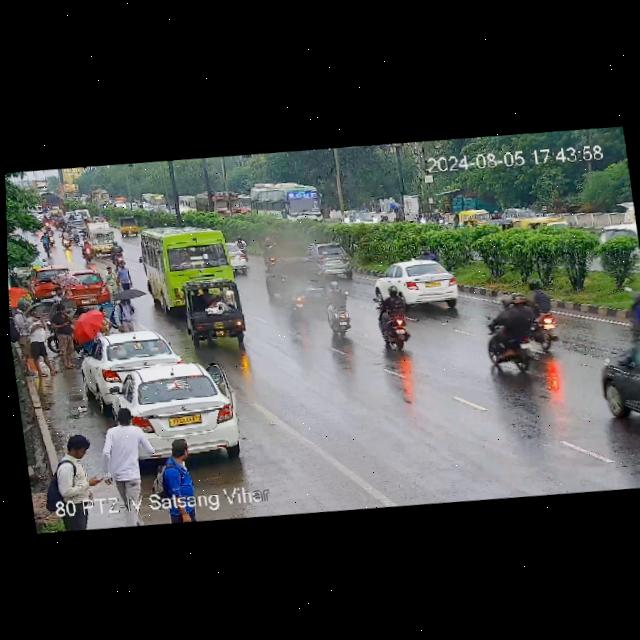bus: (134, 215, 232, 310), (250, 176, 329, 229), (139, 190, 169, 213), (177, 193, 198, 218), (59, 181, 82, 203), (86, 187, 111, 206), (113, 199, 126, 210)
car: (96, 356, 243, 472), (79, 326, 185, 398), (372, 254, 467, 315), (180, 277, 248, 348), (597, 325, 640, 436), (308, 240, 357, 281), (57, 266, 106, 307), (603, 221, 640, 258), (27, 265, 65, 299), (522, 214, 573, 234), (90, 221, 118, 254), (226, 241, 250, 275), (458, 207, 491, 227), (490, 213, 521, 234), (347, 205, 375, 225), (503, 205, 535, 220), (118, 214, 138, 235), (69, 219, 85, 234), (73, 208, 90, 220), (491, 209, 502, 219)
motorcycle: (479, 291, 531, 371), (519, 278, 561, 352), (371, 291, 418, 354), (319, 283, 361, 337), (280, 268, 309, 318), (259, 233, 278, 262), (109, 241, 129, 267), (233, 232, 251, 257), (79, 236, 93, 265), (60, 228, 74, 249), (40, 231, 52, 255), (70, 225, 81, 245), (46, 225, 57, 245), (413, 210, 428, 223), (41, 214, 52, 229), (58, 215, 67, 231), (438, 216, 449, 228), (379, 213, 392, 223), (53, 213, 60, 229), (73, 211, 81, 222), (68, 213, 74, 220)
person: (99, 409, 159, 494), (52, 433, 98, 503), (152, 439, 204, 499), (21, 303, 64, 375), (9, 302, 39, 376), (49, 301, 81, 367), (104, 290, 139, 333), (110, 258, 133, 290), (103, 263, 118, 298)
truck: (194, 188, 244, 222)
